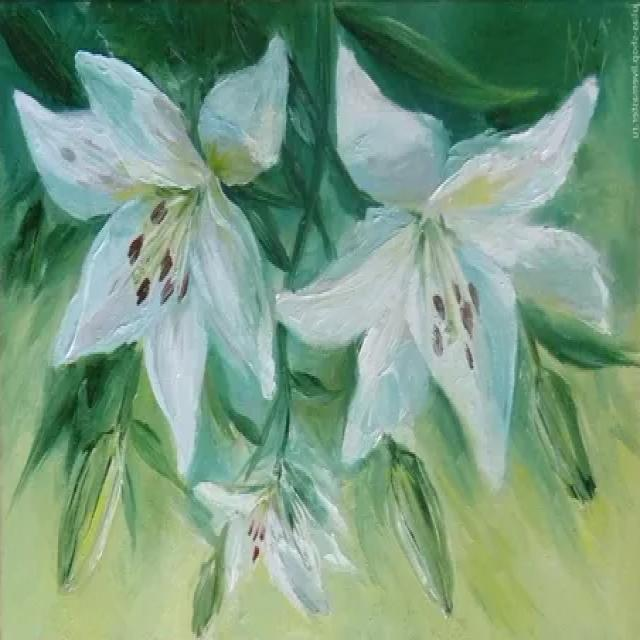lily: (12, 0, 306, 480)
